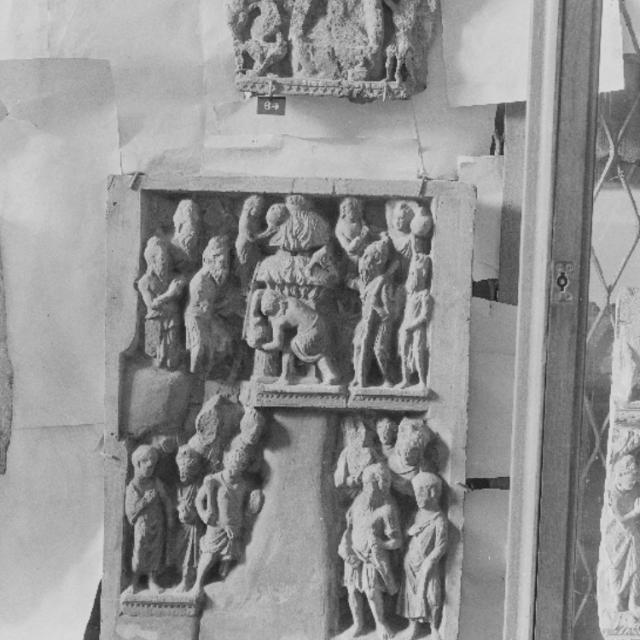buddha-pyre: (252, 195, 338, 384)
